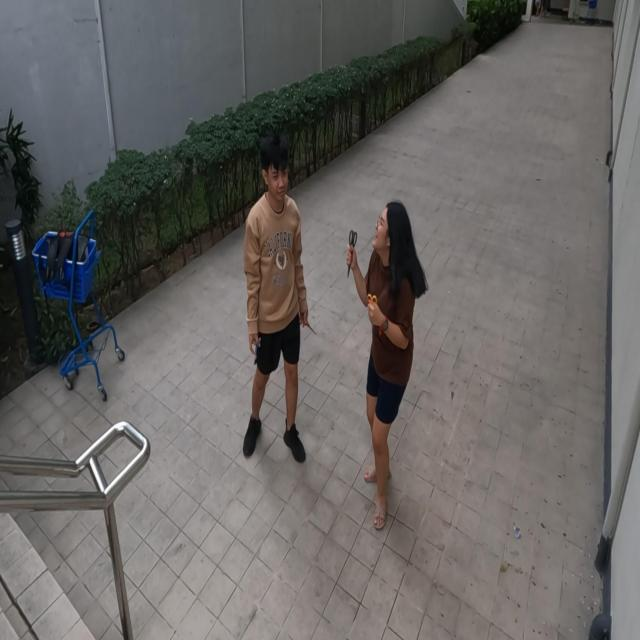scissor: (346, 228, 358, 280), (300, 312, 318, 336), (367, 292, 378, 330)
